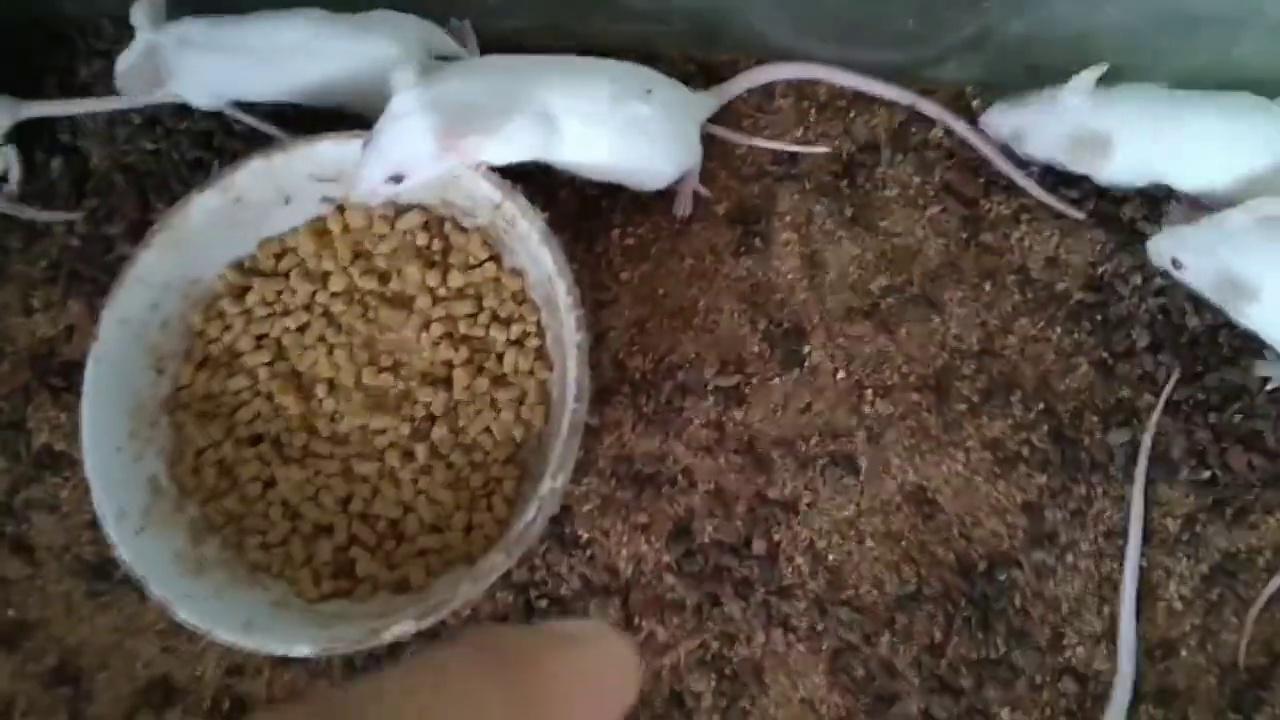rat: (348, 53, 1090, 221), (981, 66, 1280, 207), (112, 0, 480, 112), (1145, 192, 1280, 391)
